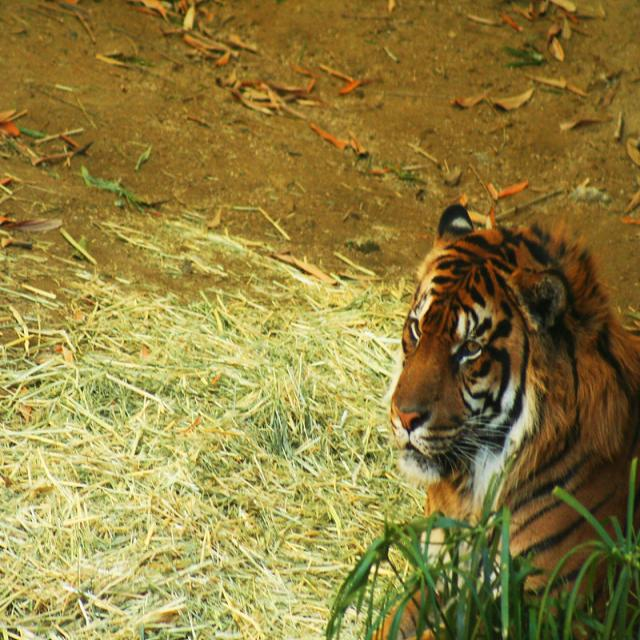Tiger: (390, 206, 639, 639)
